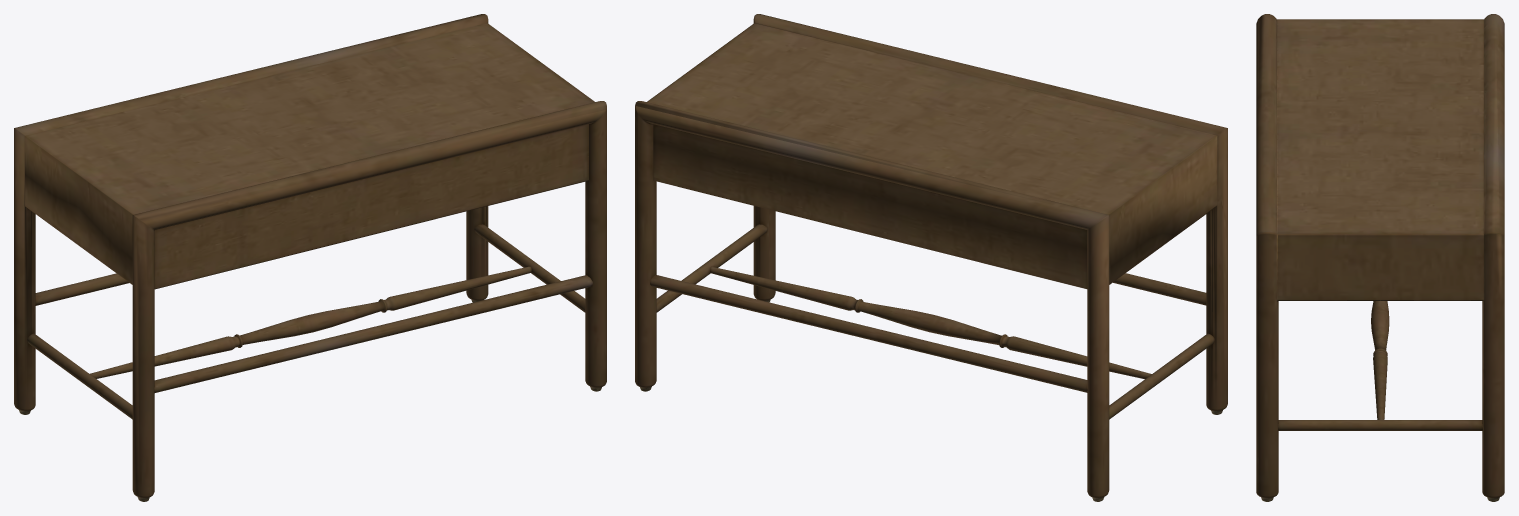
The model's file is desk.glb.
3 renders of one model, left to right at view 1: azimuth 30°, elevation 25°; view 2: azimuth 150°, elevation 25°; view 3: azimuth 270°, elevation 25°, orthographic. The views are drawn at different scales.
Visible parts, largest first — view 1: small_wooden_table_01; view 2: small_wooden_table_01; view 3: small_wooden_table_01.
Part boxes in pixels (x1,y1,x2,y2): small_wooden_table_01: (14, 14, 606, 501); small_wooden_table_01: (635, 14, 1227, 501); small_wooden_table_01: (1256, 14, 1504, 501).
Size of the model in its own units: 0.9162 by 0.5331 by 0.4399.
1 material, 1 textured.
